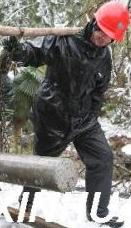boots: (0, 178, 8, 193), (0, 175, 9, 186)
gloves: (0, 35, 30, 62), (0, 44, 16, 89)
hard-hat: (0, 0, 36, 29)
ppe-suit: (0, 0, 1, 1)
